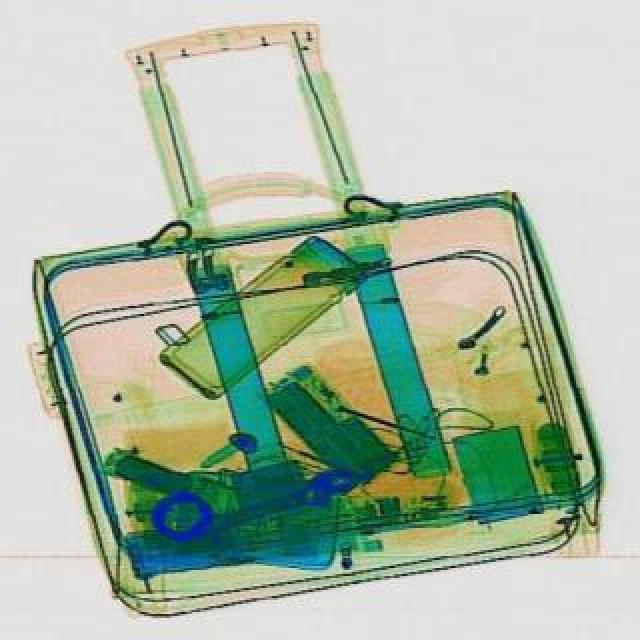scissors: (182, 466, 360, 554)
